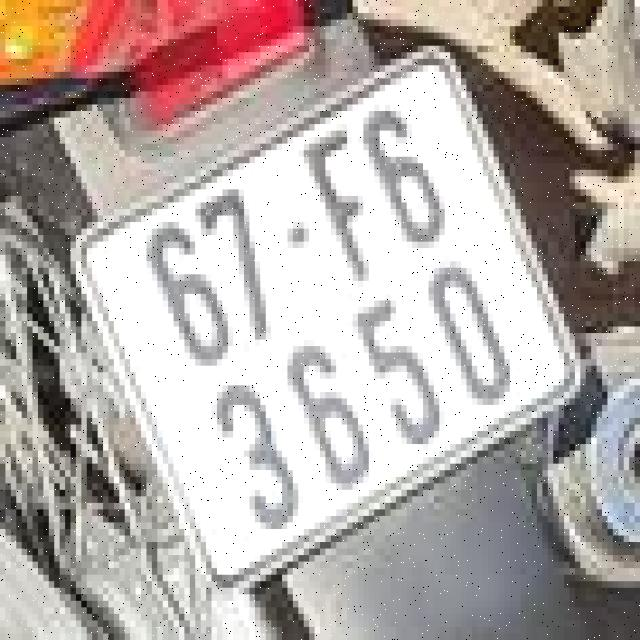0: (415, 243, 526, 426)
3: (198, 361, 315, 546)
5: (340, 278, 458, 463)
6: (270, 317, 387, 502), (132, 198, 244, 381), (349, 89, 458, 259)
7: (190, 171, 294, 354)
F: (291, 120, 395, 294)
